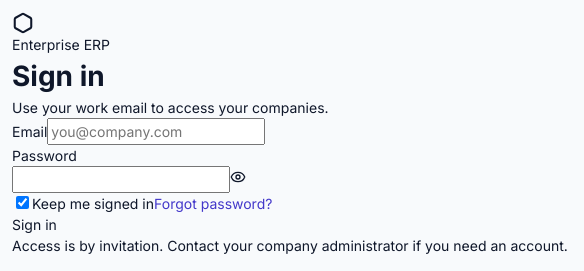
Login page › rejects an invalid email
Type "not-an-email" into the field labelled "Email" at (156, 132), box [47, 118, 265, 145]
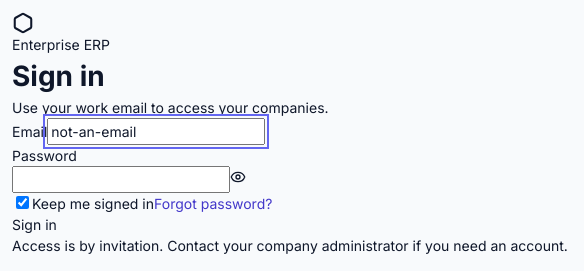
Type "secret" into the password field labelled "Password" at (121, 180), box [12, 166, 230, 193]
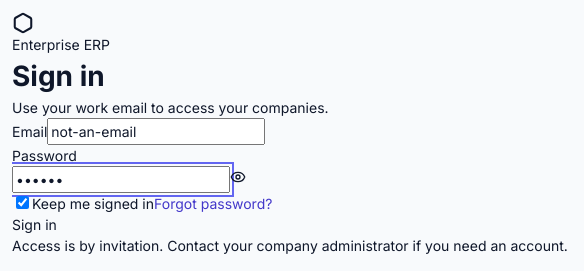
Click the button "Sign in" at (34, 224), box [12, 214, 57, 235]
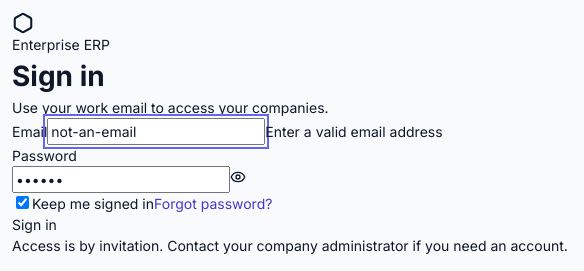
Check: the text "Enter a valid email address" is shown, box [265, 123, 443, 140]
